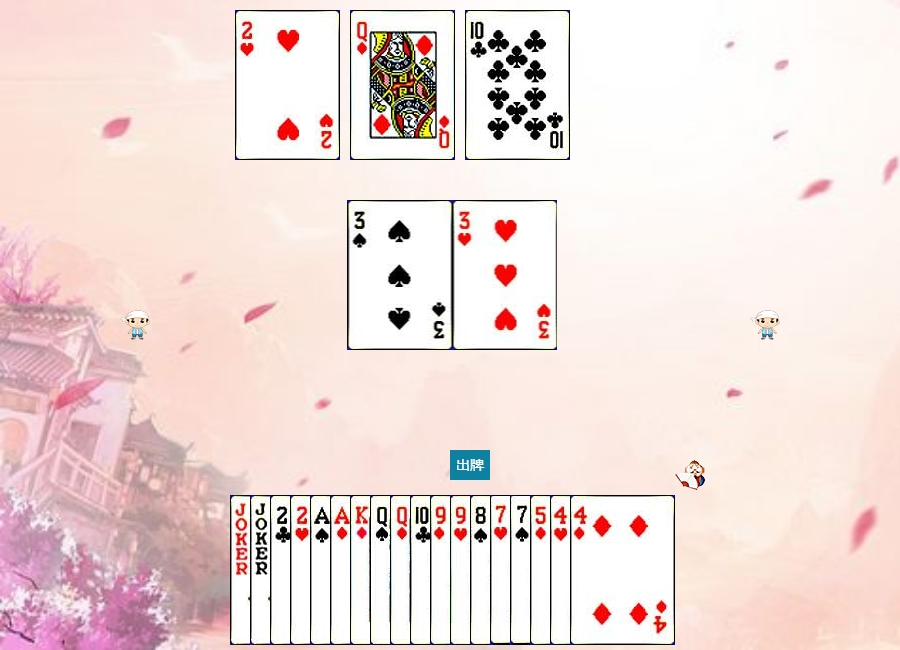10~2: (465, 10, 570, 160), (410, 495, 515, 645)
12~1: (350, 10, 455, 160), (390, 495, 495, 645)
12~4: (370, 495, 475, 645)
13~1: (350, 495, 455, 645)
14~1: (330, 495, 435, 645)
14~4: (310, 495, 415, 645)
15~2: (270, 495, 375, 645)
15~3: (235, 10, 340, 160), (290, 495, 395, 645)
17~3: (250, 495, 355, 645)
18~4: (230, 495, 335, 645)
3~3: (453, 200, 558, 350)
3~4: (348, 200, 453, 350)
4~1: (570, 495, 675, 645)
4~3: (550, 495, 655, 645)
5~1: (530, 495, 635, 645)
7~3: (490, 495, 595, 645)
7~4: (510, 495, 615, 645)
8~4: (470, 495, 575, 645)
9~1: (430, 495, 535, 645)
9~3: (450, 495, 555, 645)
